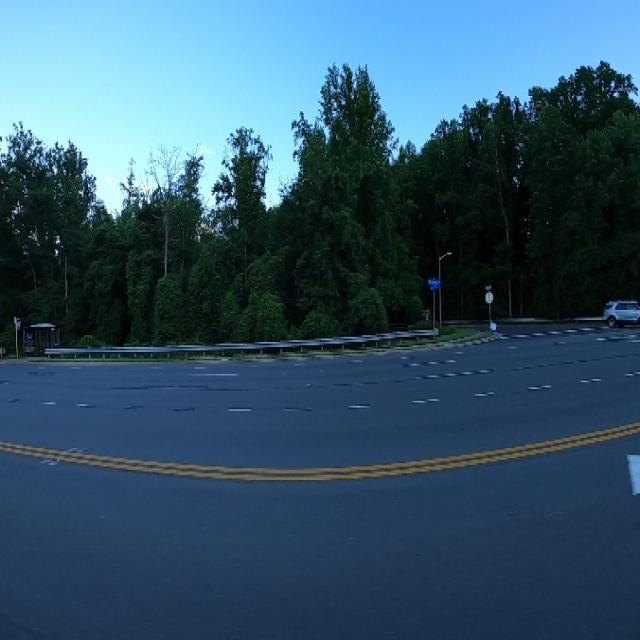cars: (600, 292, 640, 345)
